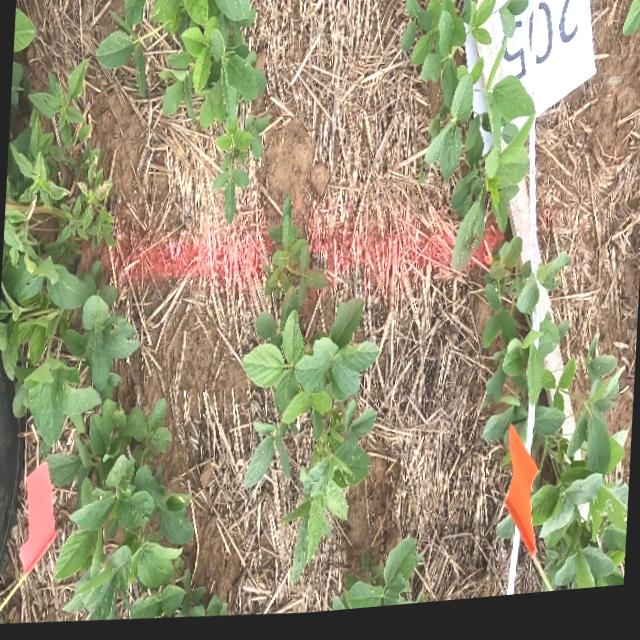caruru_weed: (5, 64, 111, 238), (4, 209, 28, 265)
soy_plant: (0, 294, 226, 622), (482, 248, 629, 601), (243, 204, 379, 583), (402, 0, 535, 278), (152, 0, 269, 226), (333, 545, 422, 617), (97, 0, 153, 95), (38, 259, 89, 311), (2, 255, 44, 307), (14, 9, 36, 52), (16, 9, 36, 53), (623, 0, 640, 47), (11, 61, 24, 106)
